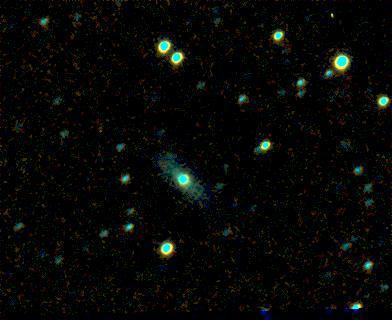star: (321, 8, 351, 38)
